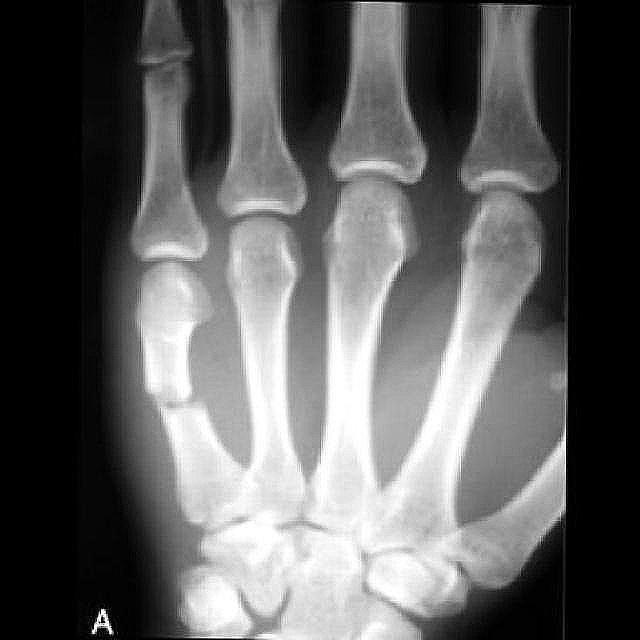bone: (129, 364, 208, 447)
